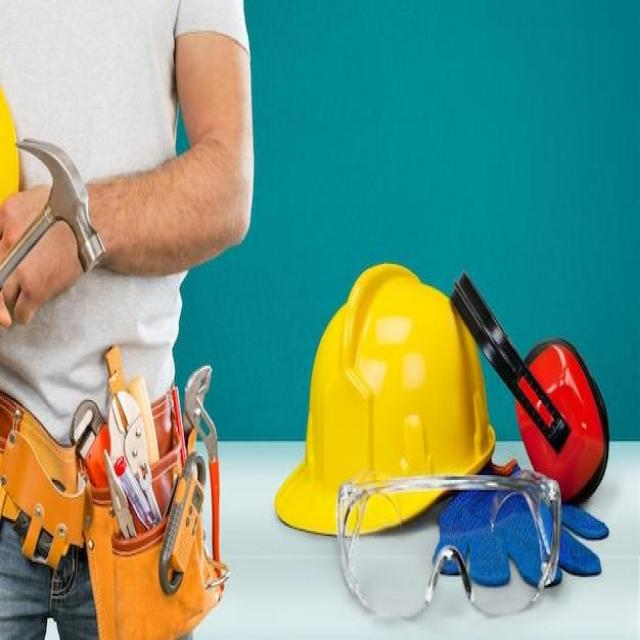Safety-Helmet: (271, 259, 509, 538)
